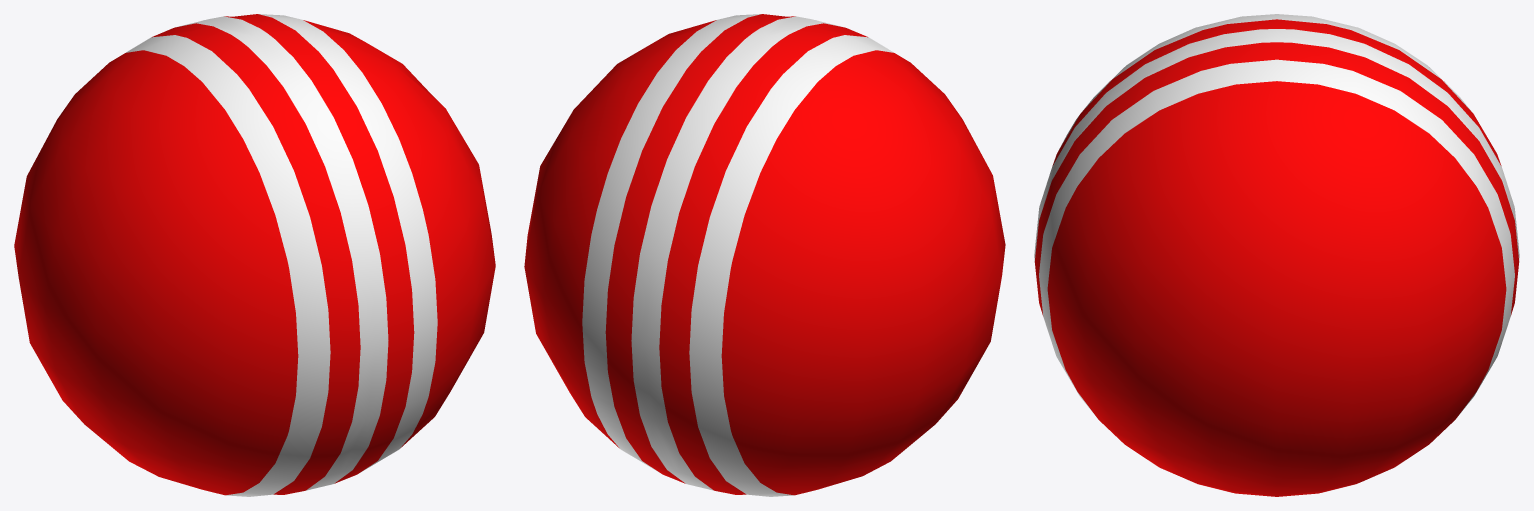
The model's file is croquetBall_compensated.fbx.
The picture shows the model from 3 angles, left to right: view 1: azimuth 30°, elevation 25°; view 2: azimuth 150°, elevation 25°; view 3: azimuth 270°, elevation 25°; orthographic projection.
Parts seen in each view (by area): view 1: Ball (Compensation); view 2: Ball (Compensation); view 3: Ball (Compensation).
Boxes of the visible parts, left/top/right/bottom form: Ball (Compensation): left=14, top=14, right=495, bottom=496; Ball (Compensation): left=524, top=14, right=1005, bottom=496; Ball (Compensation): left=1034, top=14, right=1519, bottom=496.
Size of the model in its own units: 8.31 by 8.33 by 8.33.
